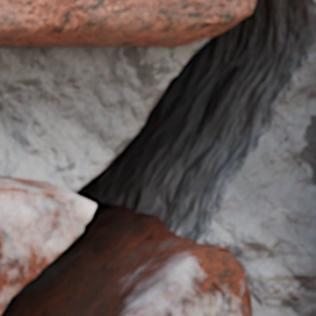brick: (0, 0, 255, 46)
broken_brick: (0, 176, 94, 312), (132, 243, 252, 315)
crack: (0, 0, 315, 315)
